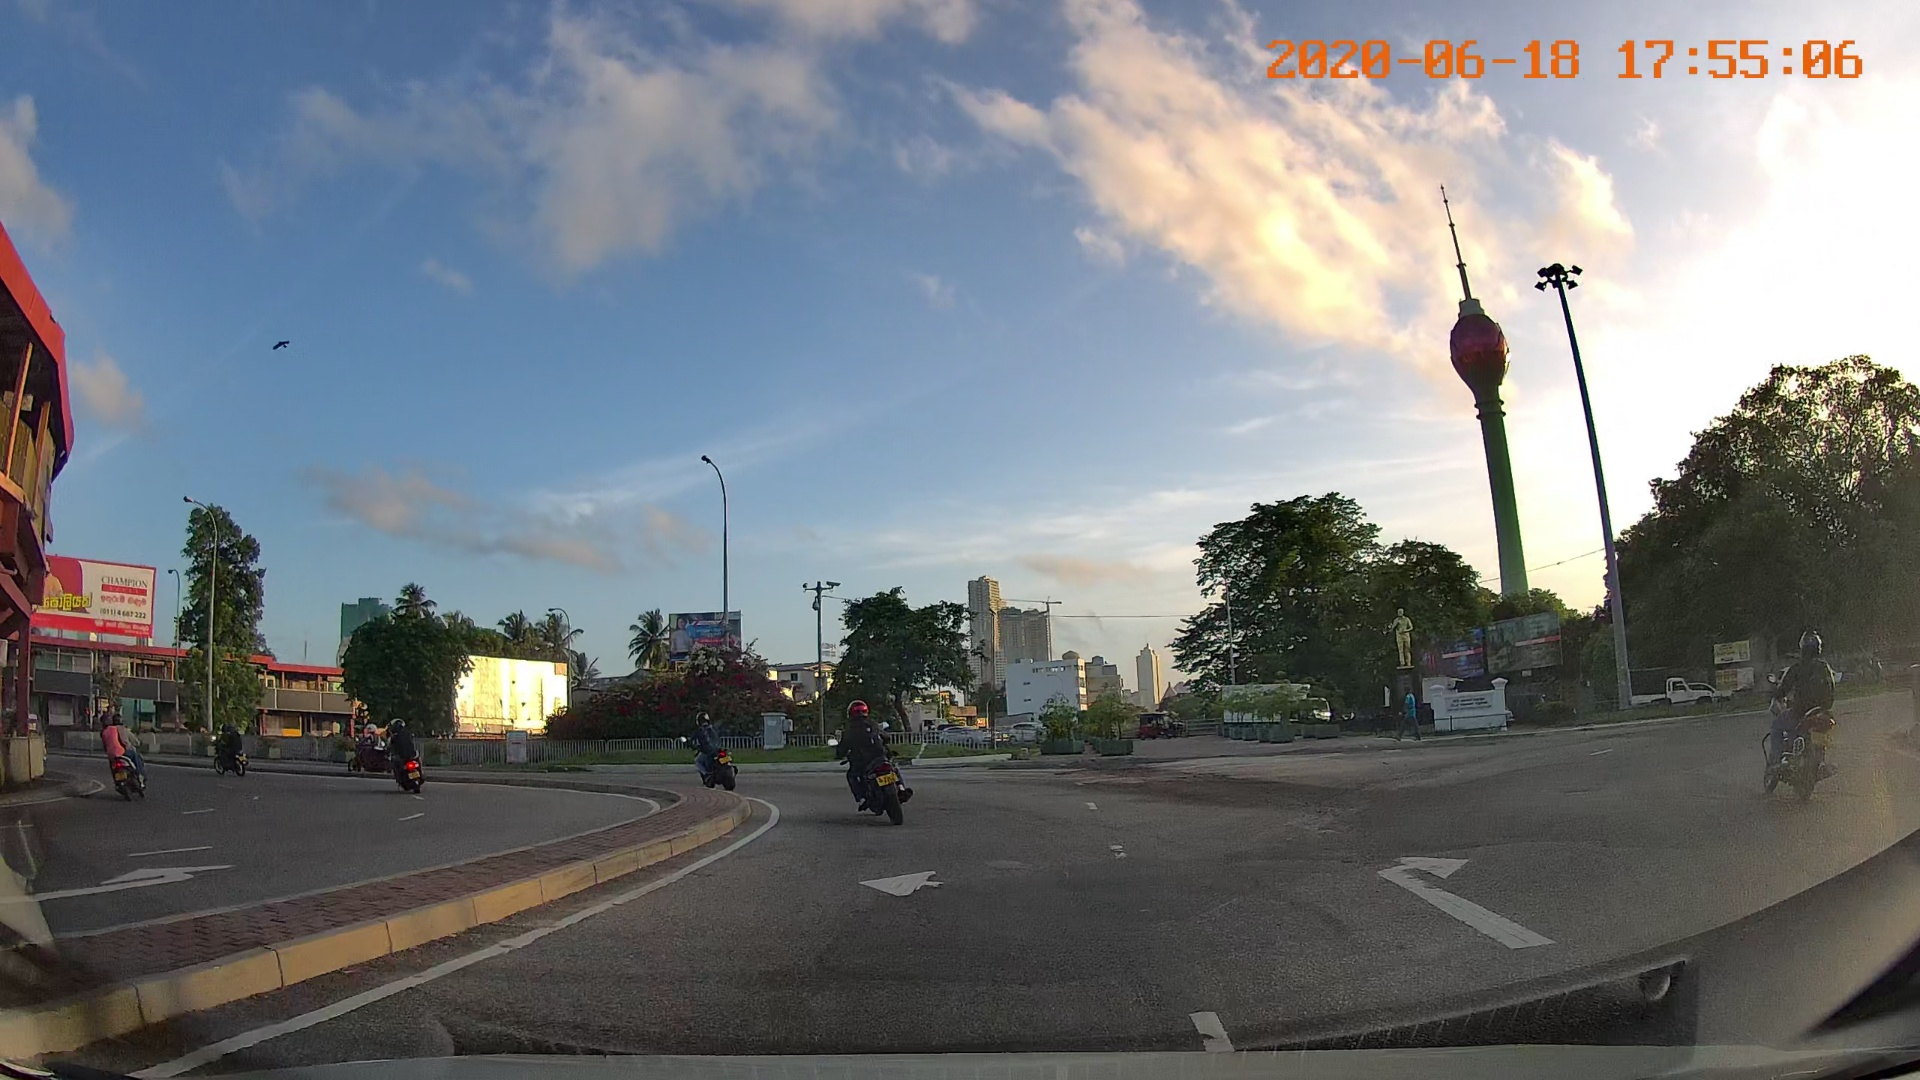right arrow: (1345, 848, 1567, 971), (0, 851, 251, 913)
